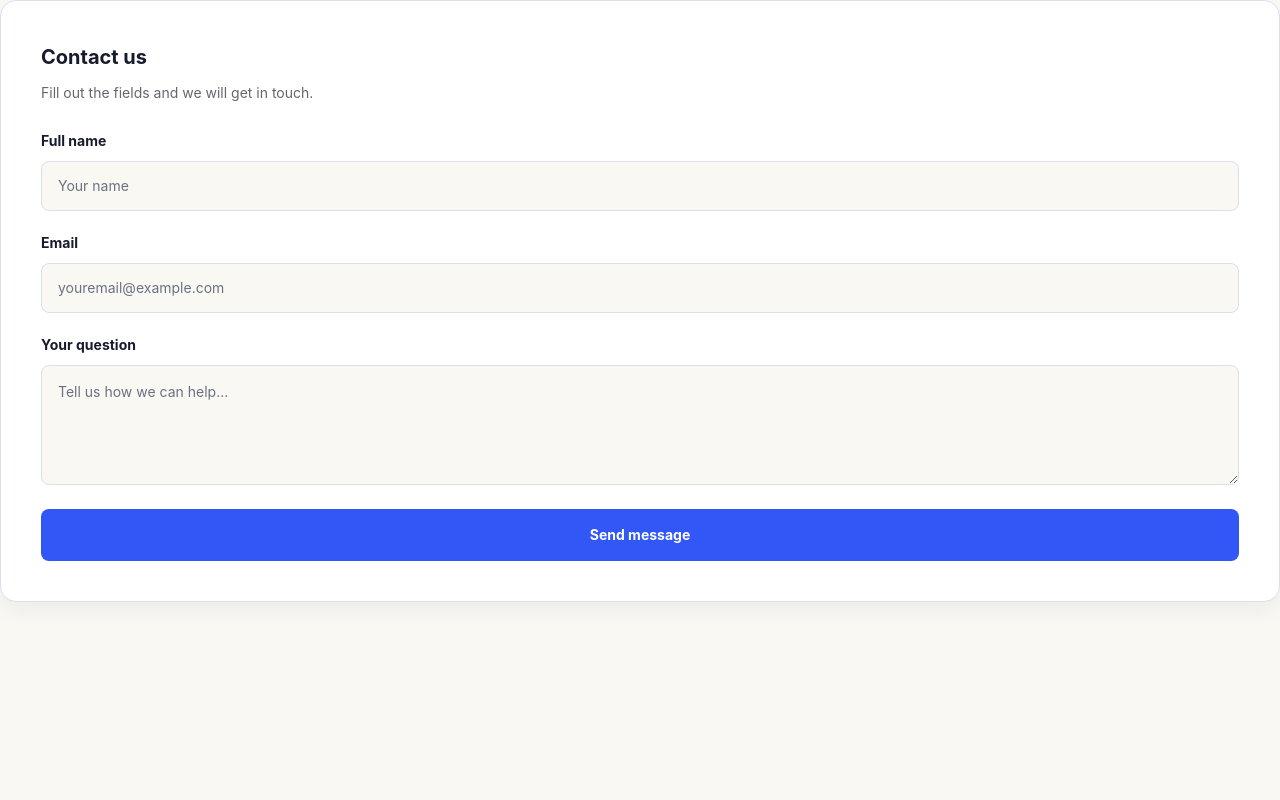
Scenario: ContactForm › submits trimmed values, shows a success message and can be reset
This screenshot has width=1280, height=800.
Type "  Maya Chen " into the field labelled "Full name" at (640, 186), box [41,161,1239,211]
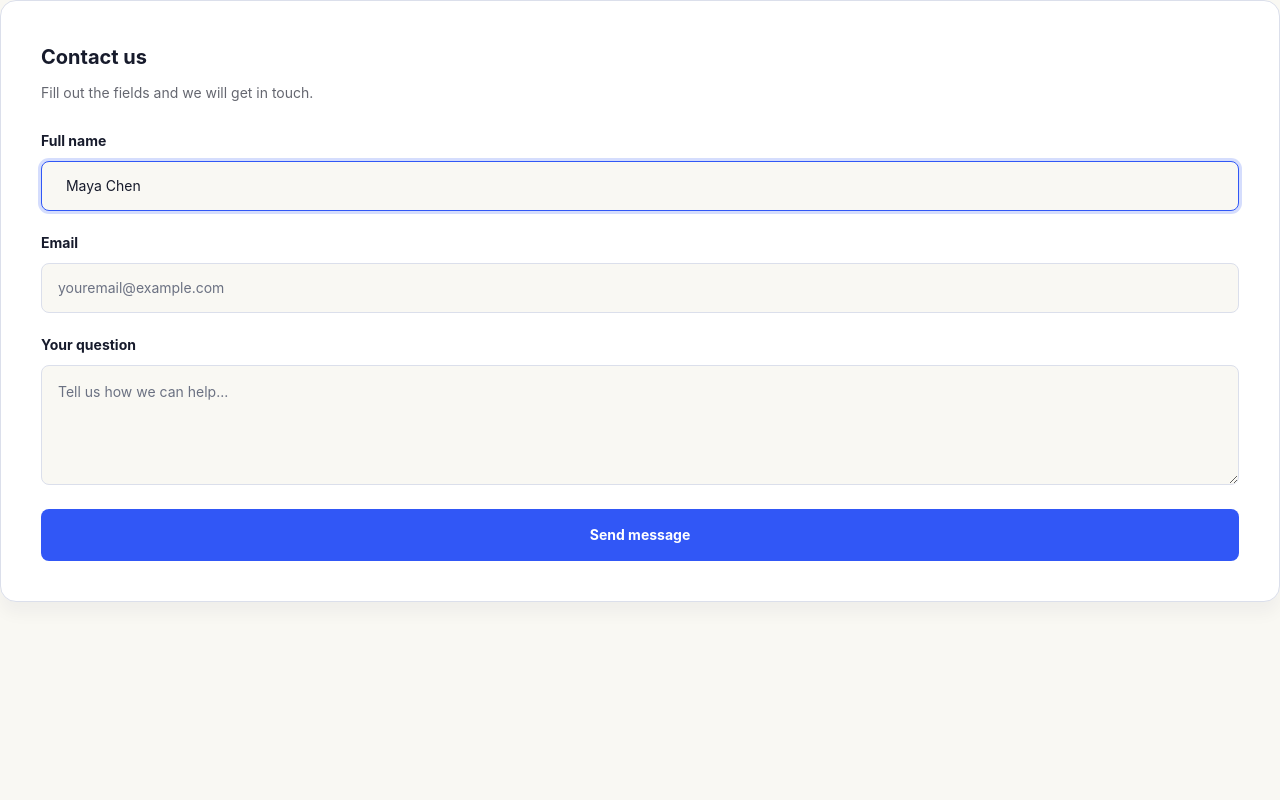
Type "maya@example.com" into the field labelled "Email" at (640, 288), box [41,263,1239,313]
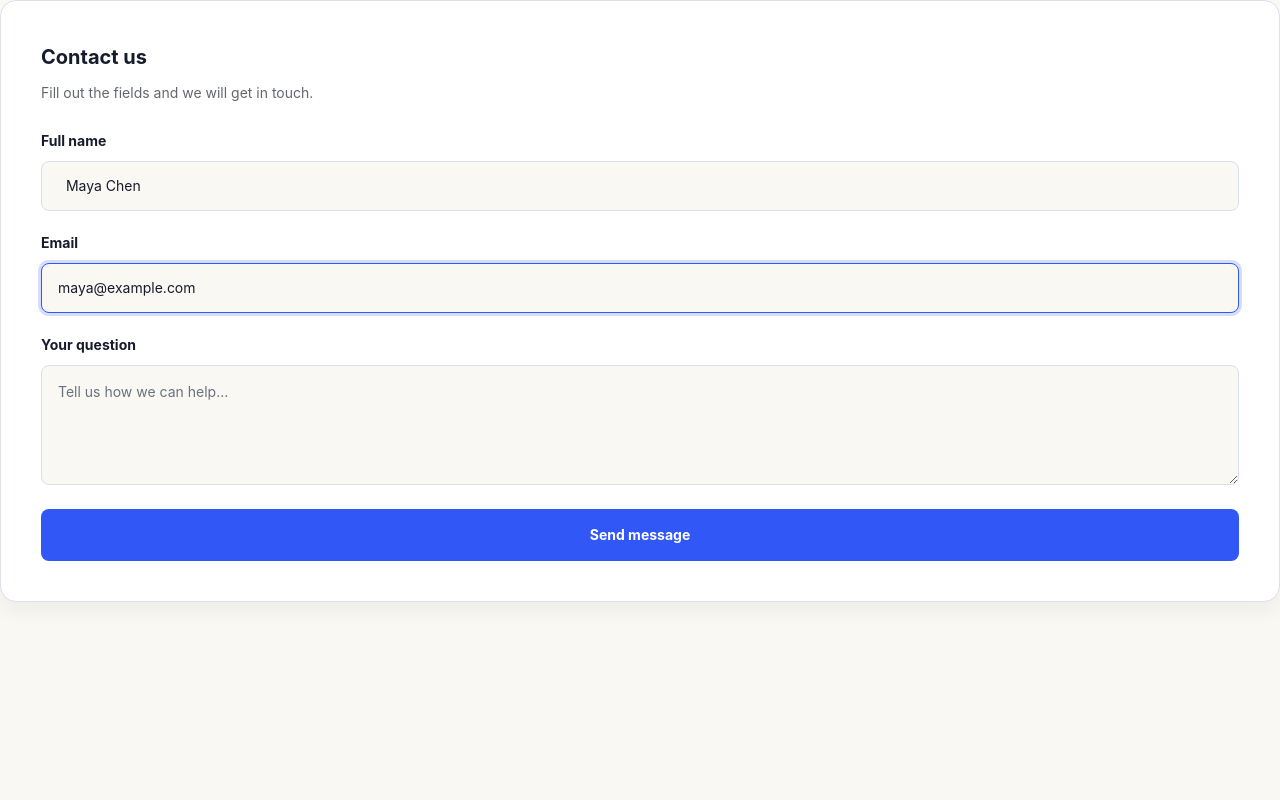
Type "Which course should I start with?" into the text box labelled "Your question" at (640, 425), box [41,365,1239,485]
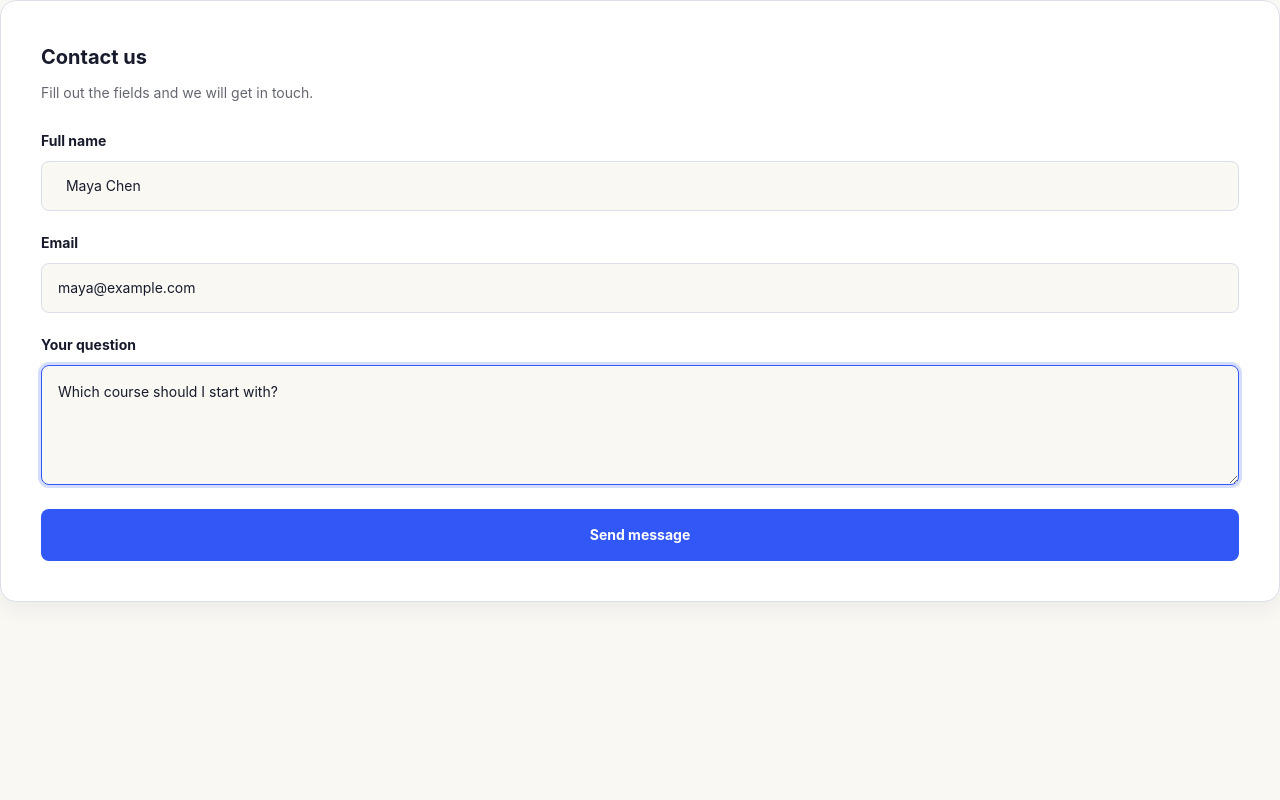
Click the button "Send message" at (640, 535), box [41,509,1239,561]
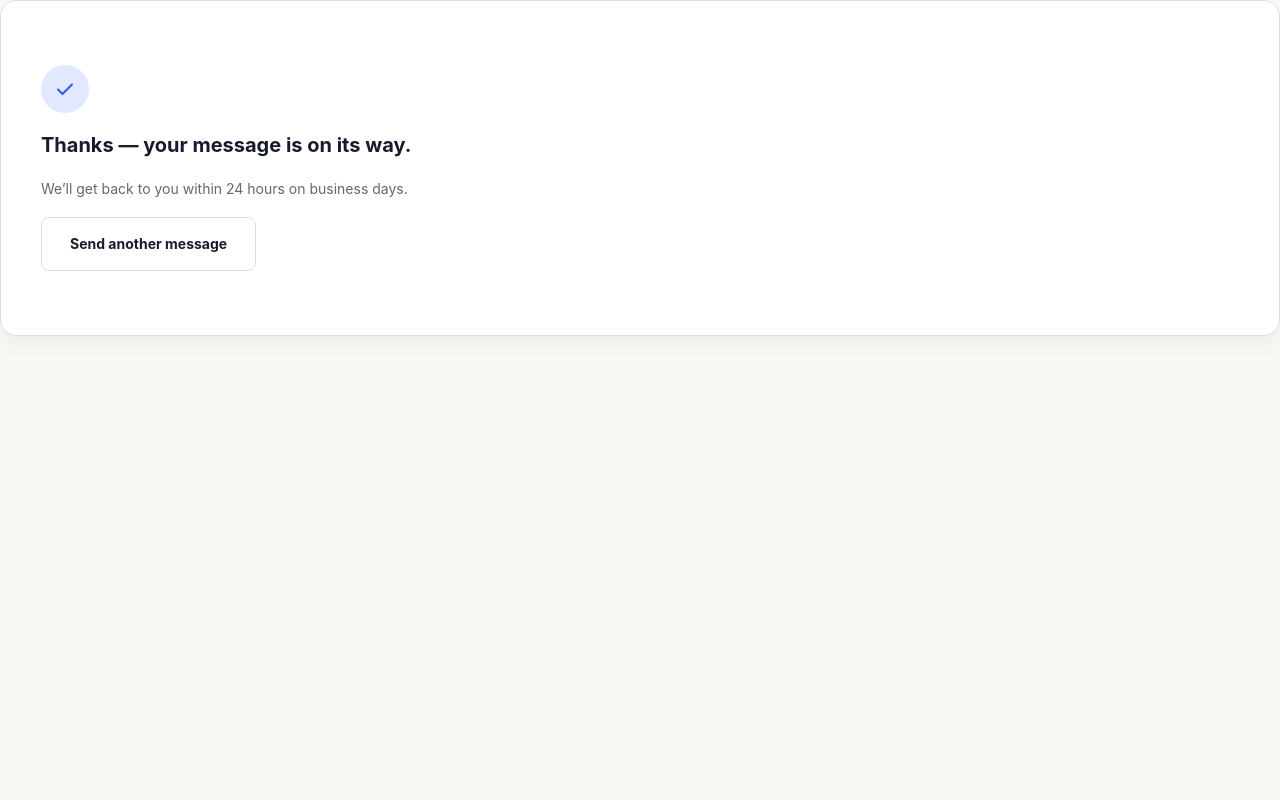
Result: the message shows "Thanks — your message is on its way." at [41,133,411,157]
Click the button "Send another message" at (149, 244), box [41,217,256,271]
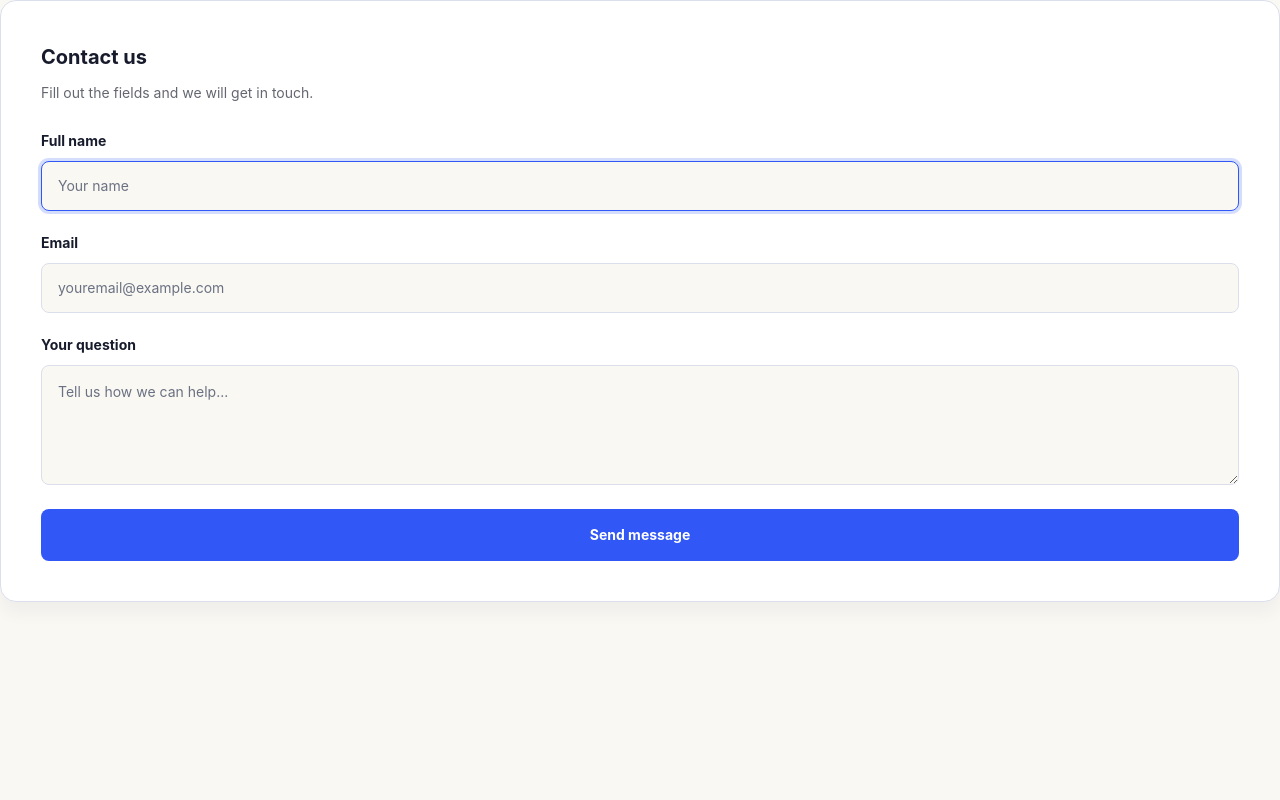
Result: the field labelled "Full name" is empty at [41,161,1239,211]
